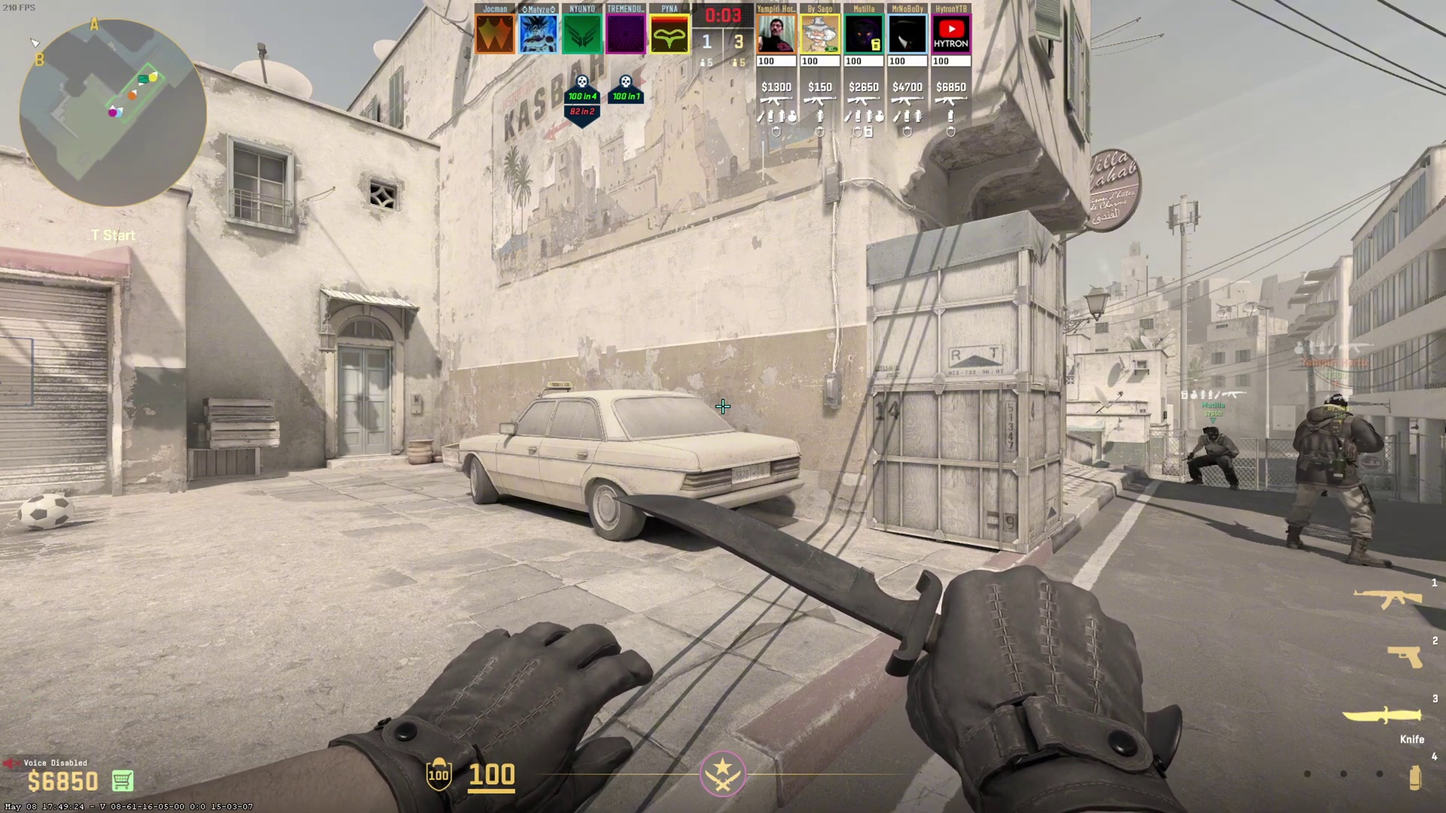Terrorist: (1286, 393, 1392, 568), (1187, 426, 1239, 491)
